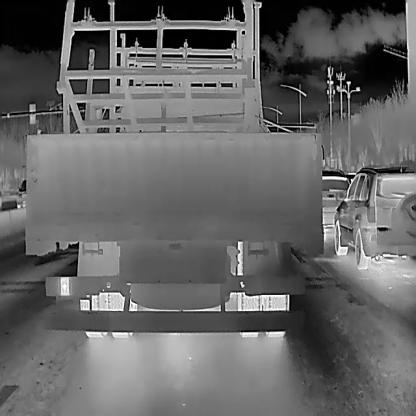car: (332, 162, 416, 270), (319, 169, 354, 233)
truck: (20, 46, 324, 338)
